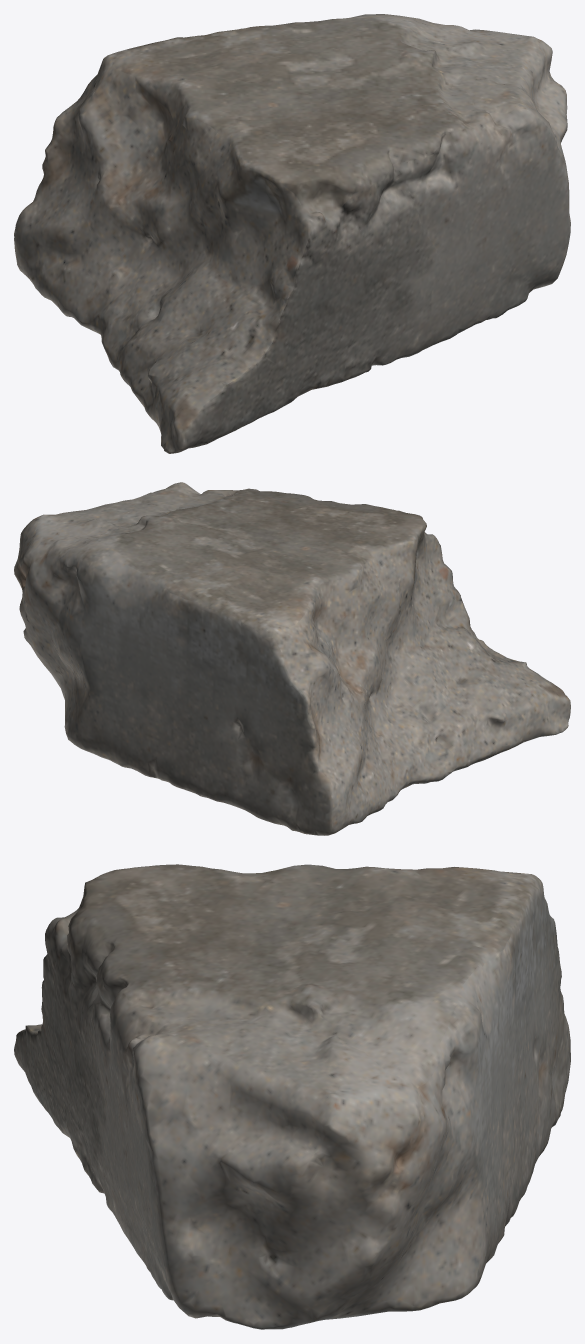
Rendered from Rock5.fbx.
The picture shows the model from 3 angles, top to bottom: view 1: azimuth 30°, elevation 25°; view 2: azimuth 150°, elevation 25°; view 3: azimuth 270°, elevation 25°; orthographic projection. The views are drawn at different scales.
Visible parts, largest first — view 1: Aset_debris_construction_S_tmkhdecva_04_LOD0; view 2: Aset_debris_construction_S_tmkhdecva_04_LOD0; view 3: Aset_debris_construction_S_tmkhdecva_04_LOD0.
Part boxes in pixels (x1,y1,x2,y2): Aset_debris_construction_S_tmkhdecva_04_LOD0: [14, 14, 570, 453]; Aset_debris_construction_S_tmkhdecva_04_LOD0: [14, 482, 570, 835]; Aset_debris_construction_S_tmkhdecva_04_LOD0: [14, 864, 570, 1329].
Size of the model in its own units: 25.01 by 11.33 by 19.14.
